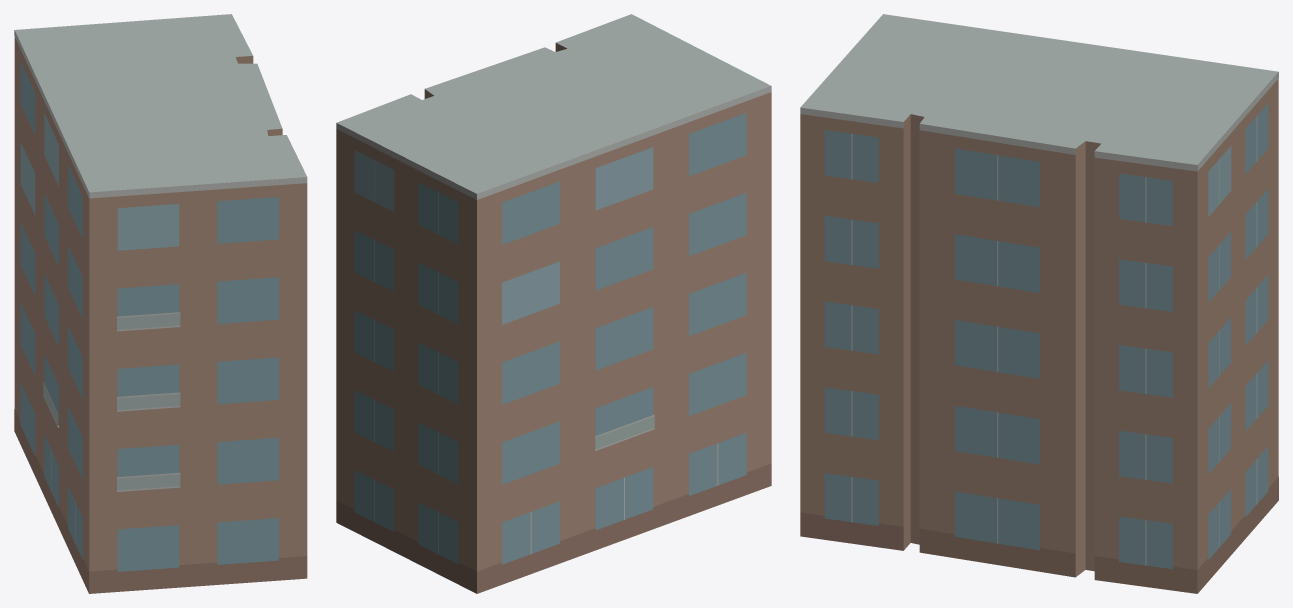
The model's file is survey-upis-32947246.glb.
3 renders of one model, left to right at view 1: azimuth 30°, elevation 25°; view 2: azimuth 150°, elevation 25°; view 3: azimuth 270°, elevation 25°, orthographic. The views are drawn at different scales.
Parts seen in each view (by area): view 1: survey-upis-32947246.tmp; view 2: survey-upis-32947246.tmp; view 3: survey-upis-32947246.tmp.
Part boxes in pixels (<box>): survey-upis-32947246.tmp: <box>14,14,307,593</box>; survey-upis-32947246.tmp: <box>336,14,771,593</box>; survey-upis-32947246.tmp: <box>800,14,1278,593</box>.
Bounding box in the file's own units: 12.25 × 16.2 × 16.4.
